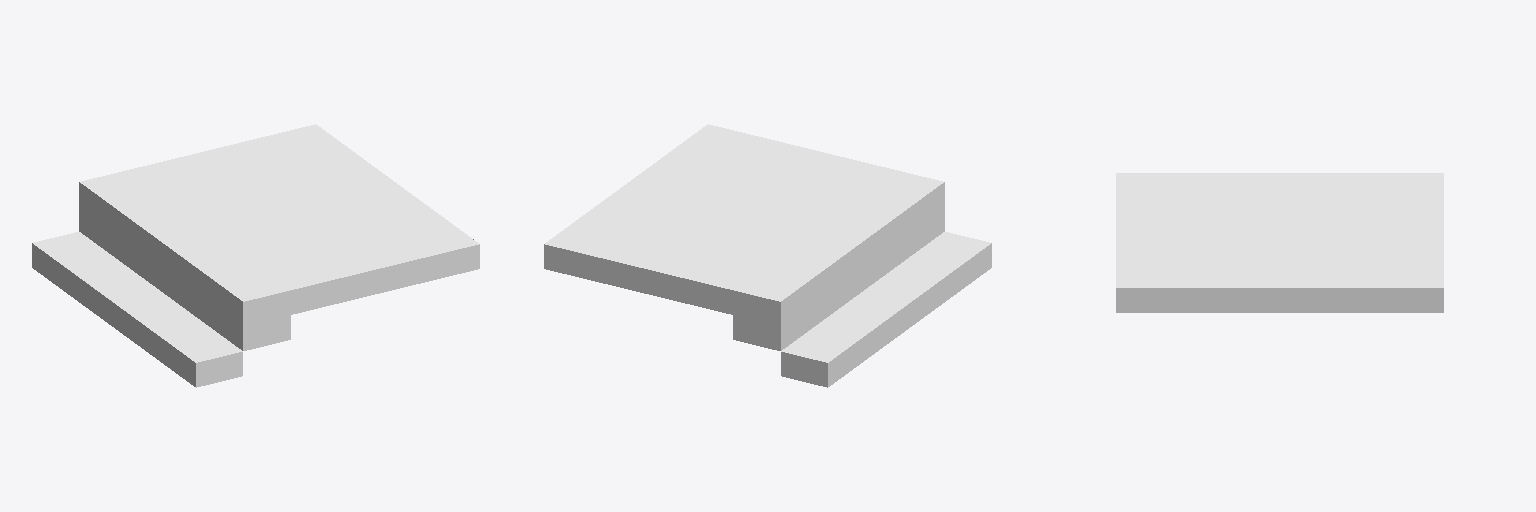
File: map1.18.vox.obj
The picture shows the model from 3 angles: view 1: azimuth 30°, elevation 25°; view 2: azimuth 150°, elevation 25°; view 3: azimuth 270°, elevation 25°; orthographic projection.
Visible parts, largest first — view 1: object 1; view 2: object 1; view 3: object 1.
Boxes of the visible parts, x1=… form: object 1: x1=32, y1=124, x2=479, y2=387; object 1: x1=544, y1=124, x2=991, y2=387; object 1: x1=1116, y1=173, x2=1443, y2=312.
Bounding box in the file's own units: 24 × 6 × 24.